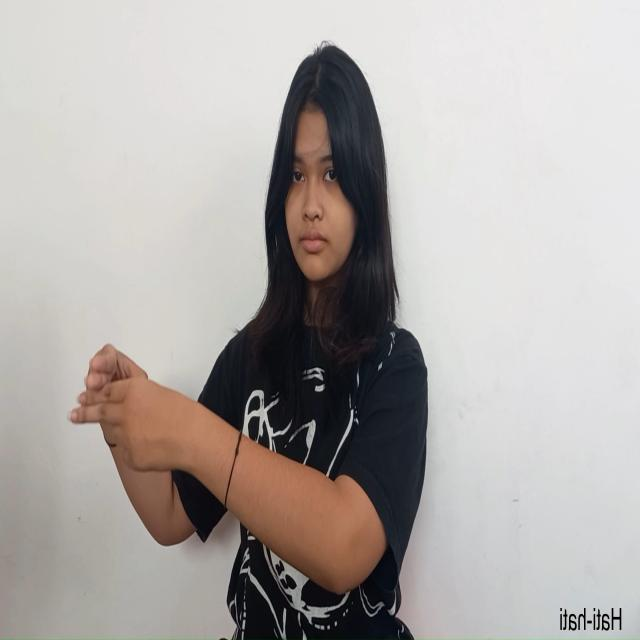Hati-hati -BISINDO-: (66, 343, 206, 472)
